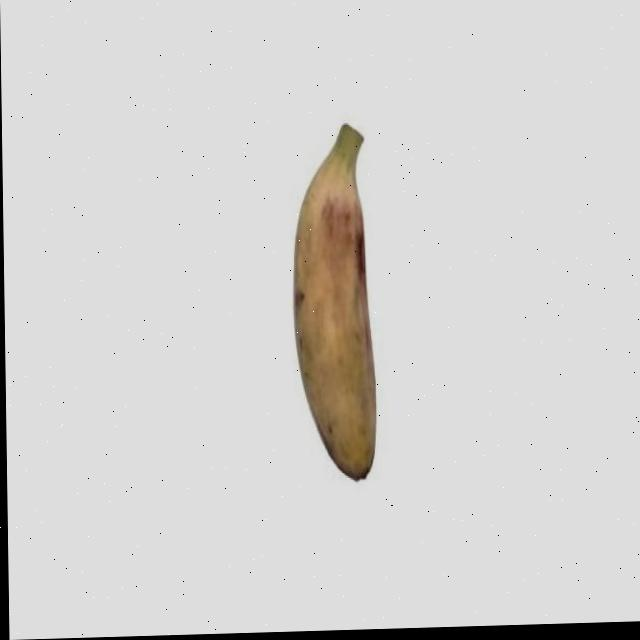banana: (286, 106, 383, 490)
